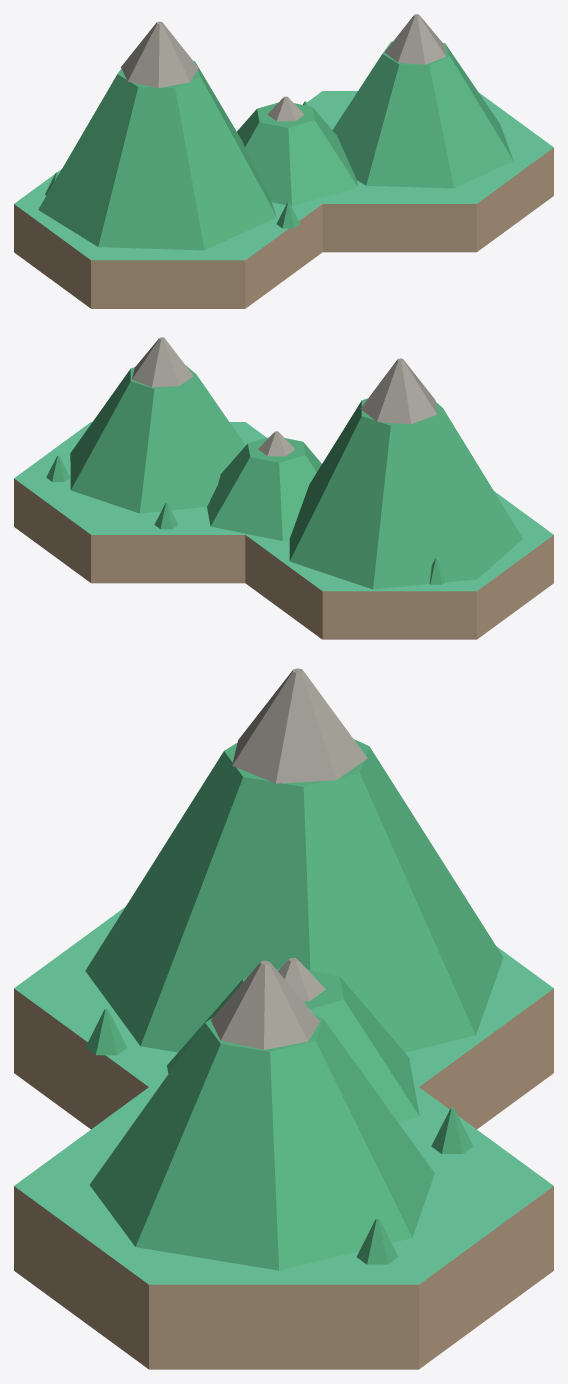
File: mountain-medium.glb
3 views of the same model, one above another, from view 1: azimuth 30°, elevation 25°; view 2: azimuth 150°, elevation 25°; view 3: azimuth 270°, elevation 25° (orthographic). The views are drawn at different scales.
Parts seen in each view (by area): view 1: main_slope, base0, base1, sub_slope, ridge, main_rock, sub_rock, ridge_rock, tree1; view 2: main_slope, base0, base1, sub_slope, ridge, main_rock, sub_rock, ridge_rock, tree2, tree3; view 3: main_slope, base1, sub_slope, base0, main_rock, ridge, sub_rock, tree1, tree3, tree2, ridge_rock.
Boxes of the visible parts, left/top/right/bottom form: main_slope: left=38, top=61, right=276, bottom=250; base0: left=14, top=169, right=322, bottom=308; base1: left=307, top=91, right=553, bottom=252; sub_slope: left=332, top=41, right=513, bottom=188; ridge: left=237, top=102, right=357, bottom=206; main_rock: left=121, top=21, right=198, bottom=88; sub_rock: left=384, top=14, right=445, bottom=64; ridge_rock: left=267, top=96, right=304, bottom=121; tree1: left=276, top=202, right=300, bottom=228; main_slope: left=289, top=398, right=522, bottom=589; base0: left=245, top=491, right=553, bottom=639; base1: left=14, top=422, right=266, bottom=583; sub_slope: left=70, top=365, right=245, bottom=513; ridge: left=207, top=437, right=321, bottom=541; main_rock: left=360, top=358, right=437, bottom=424; sub_rock: left=132, top=337, right=193, bottom=387; ridge_rock: left=258, top=431, right=295, bottom=456; tree2: left=154, top=502, right=178, bottom=529; tree3: left=46, top=455, right=69, bottom=481; main_slope: left=85, top=739, right=503, bottom=1052; base1: left=14, top=1087, right=553, bottom=1369; sub_slope: left=89, top=1015, right=434, bottom=1270; base0: left=14, top=906, right=553, bottom=1129; main_rock: left=232, top=668, right=367, bottom=783; ridge: left=167, top=968, right=419, bottom=1122; sub_rock: left=211, top=960, right=320, bottom=1049; tree1: left=85, top=1008, right=126, bottom=1055; tree3: left=356, top=1218, right=398, bottom=1264; tree2: left=431, top=1107, right=473, bottom=1153; ridge_rock: left=278, top=958, right=325, bottom=1001.
Bounding box in the file's own units: 2 × 0.94 × 1.15.
